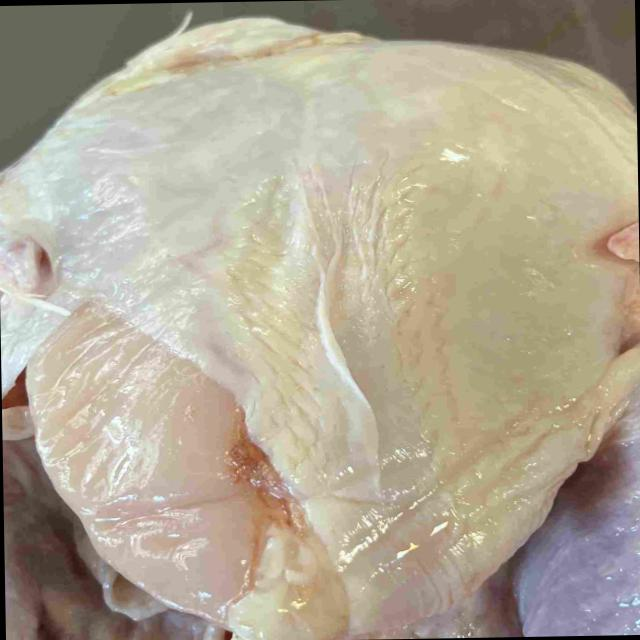breast: (0, 19, 639, 640)
leg: (512, 346, 640, 637)
